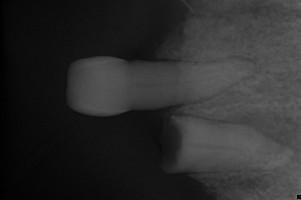Furcation Involvement: (219, 109, 301, 164)
